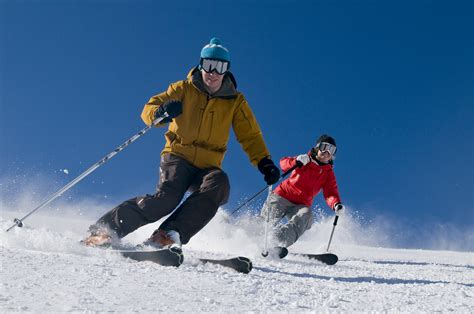skier: (3, 36, 281, 275), (215, 129, 347, 270)
